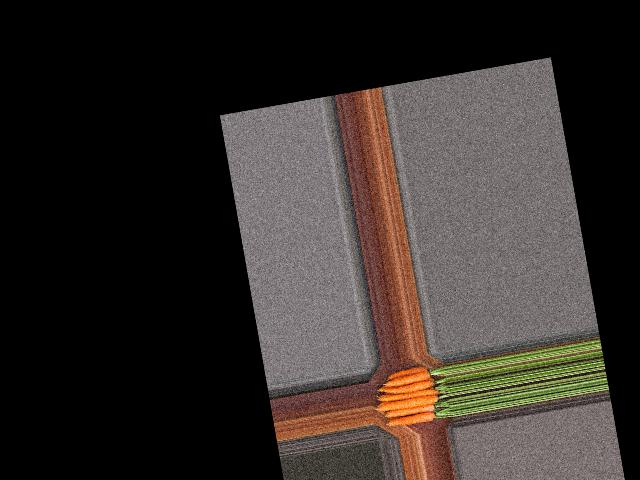carrot: (379, 362, 429, 382)
